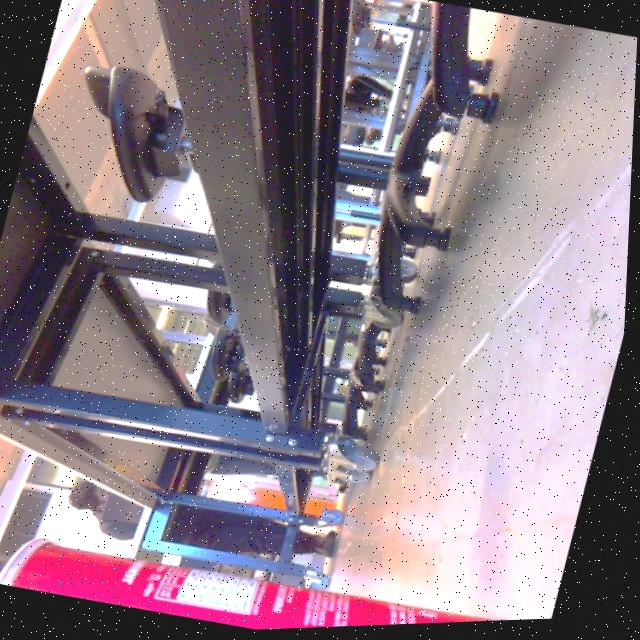redpringles: (0, 502, 561, 640)
